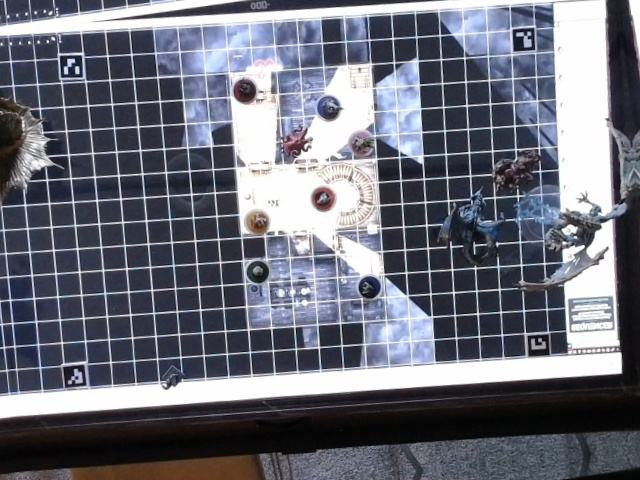blue: (353, 271, 386, 300)
green: (244, 256, 272, 284)
orange: (304, 180, 341, 216)
pink: (345, 126, 378, 158)
red: (229, 74, 261, 107)
violet: (311, 92, 345, 121)
yellow: (240, 203, 274, 238)
